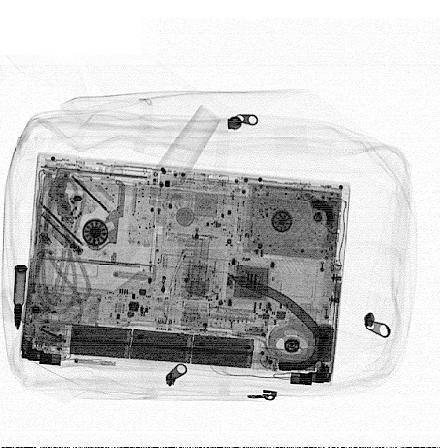Bullet: (12, 263, 28, 332)
